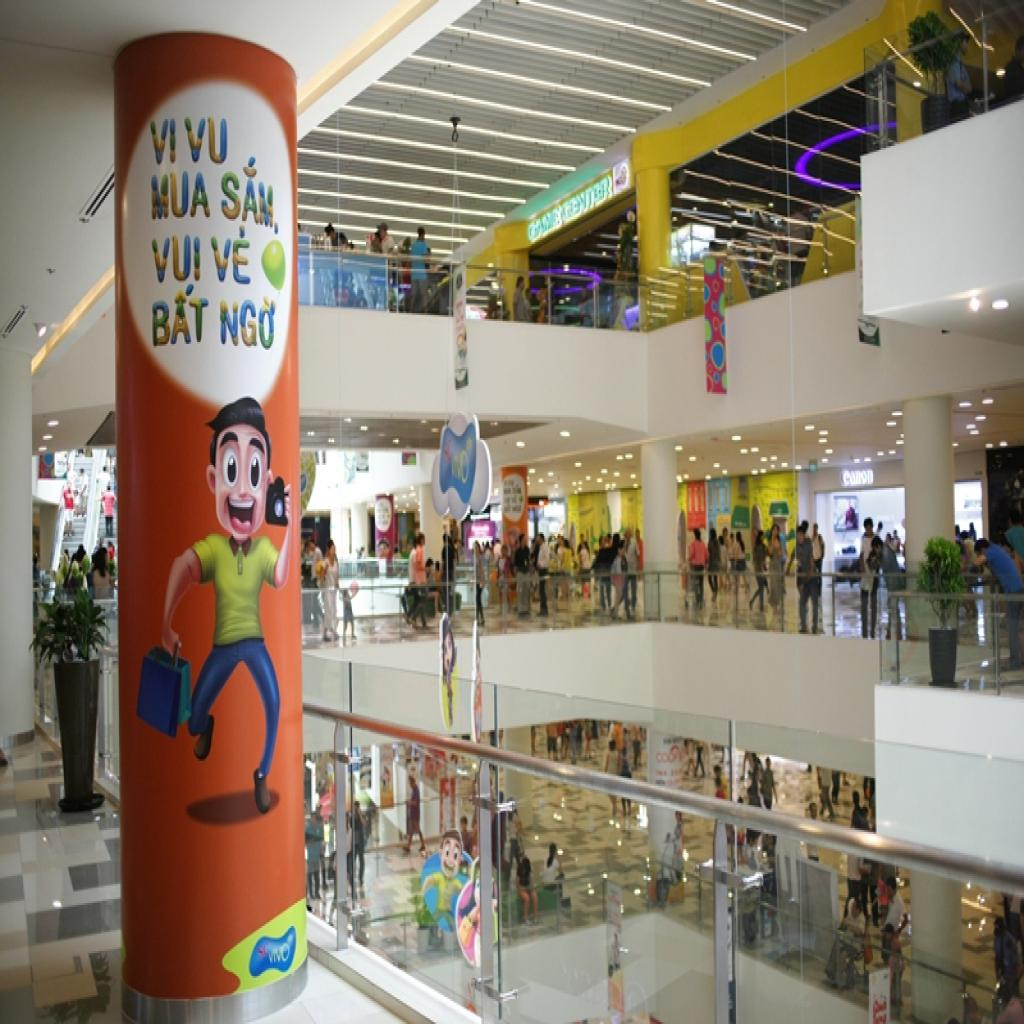text: (219, 148, 281, 240), (147, 282, 211, 352), (218, 292, 279, 355), (150, 171, 214, 225), (150, 234, 204, 286), (208, 227, 254, 288), (562, 174, 613, 228), (183, 117, 230, 167), (149, 117, 179, 169), (527, 204, 562, 248), (837, 465, 878, 494), (450, 449, 474, 490), (269, 944, 293, 968), (654, 751, 680, 767)
